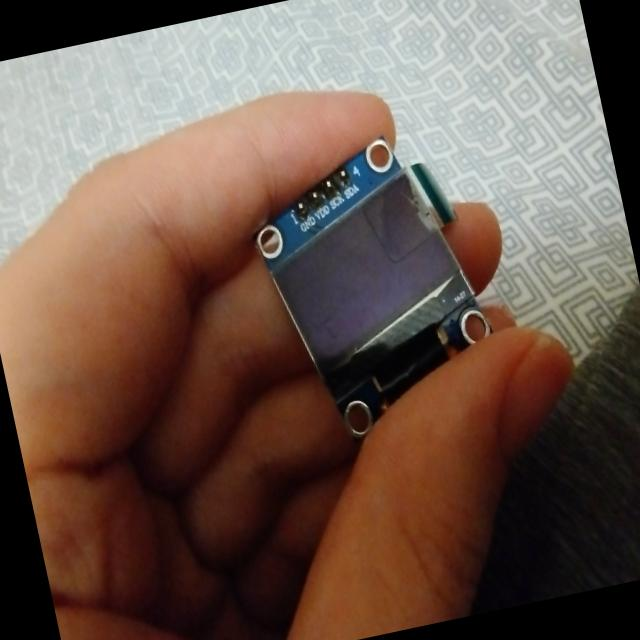oled: (236, 110, 522, 460)
